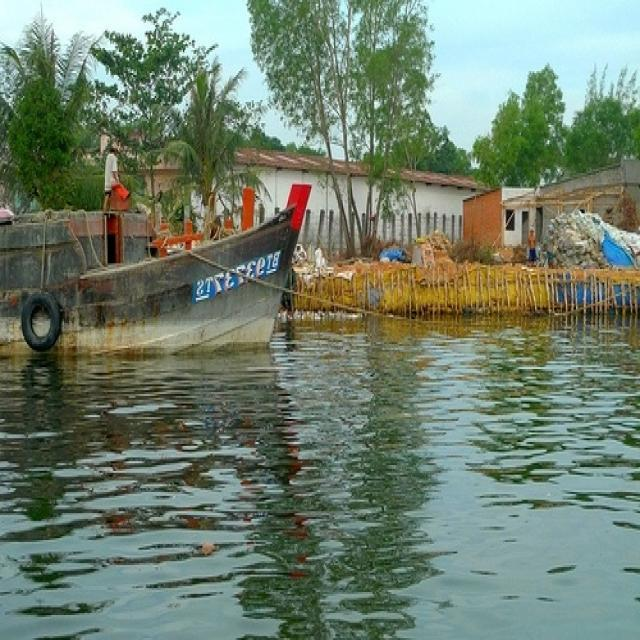boat: (0, 174, 314, 359)
